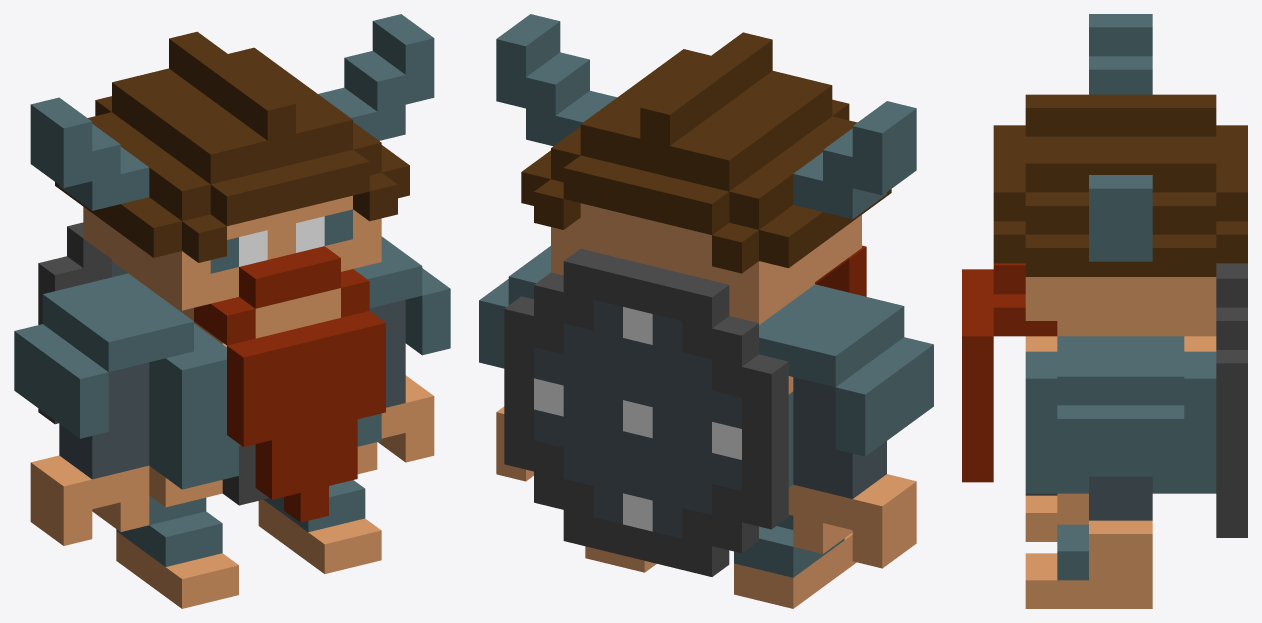
Rendered from lvl2-17.obj.
3 views of the same model, side by side, from view 1: azimuth 30°, elevation 25°; view 2: azimuth 150°, elevation 25°; view 3: azimuth 270°, elevation 25° (orthographic). The views are drawn at different scales.
Bounding box in the file's own units: 1.3 × 1.6 × 0.9.
Materials: 1 (1 with a texture image).
